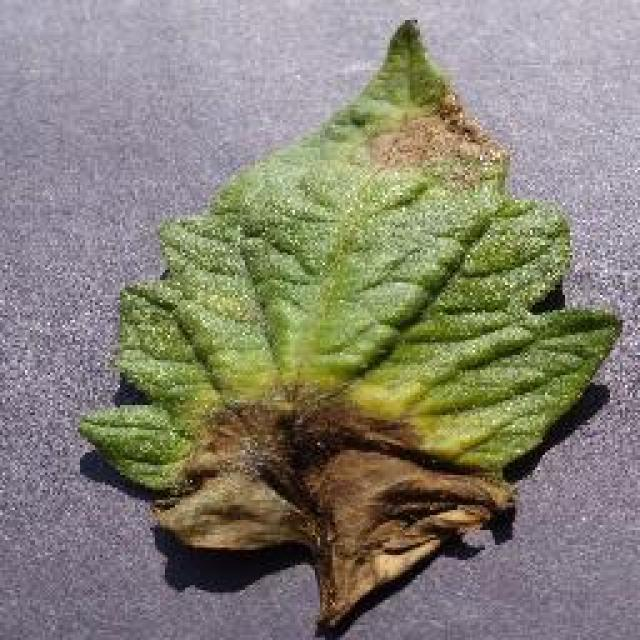Tomato late blight leaf: (76, 16, 628, 638)
